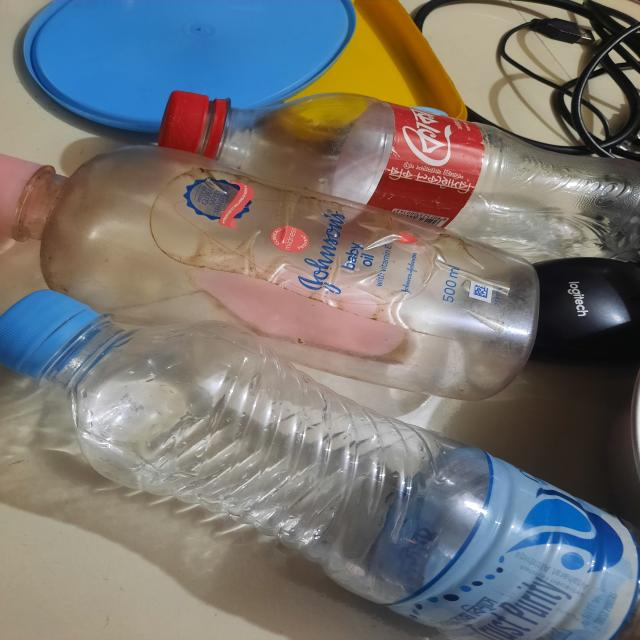Cable: (431, 0, 640, 144)
Plastics: (0, 0, 615, 640)
